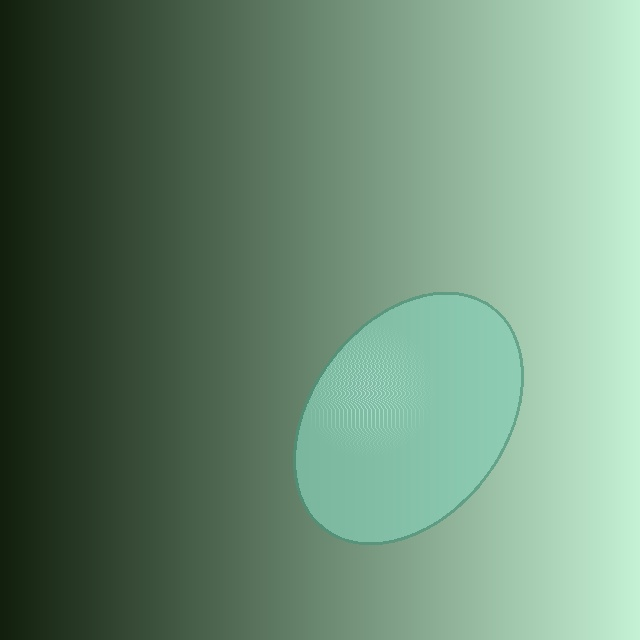lens: (294, 293, 522, 543)
